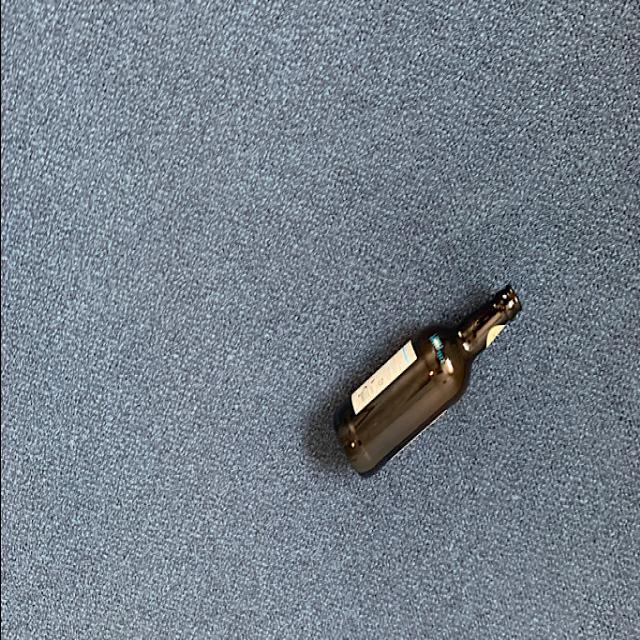Glass Bottle: (323, 281, 528, 485)
